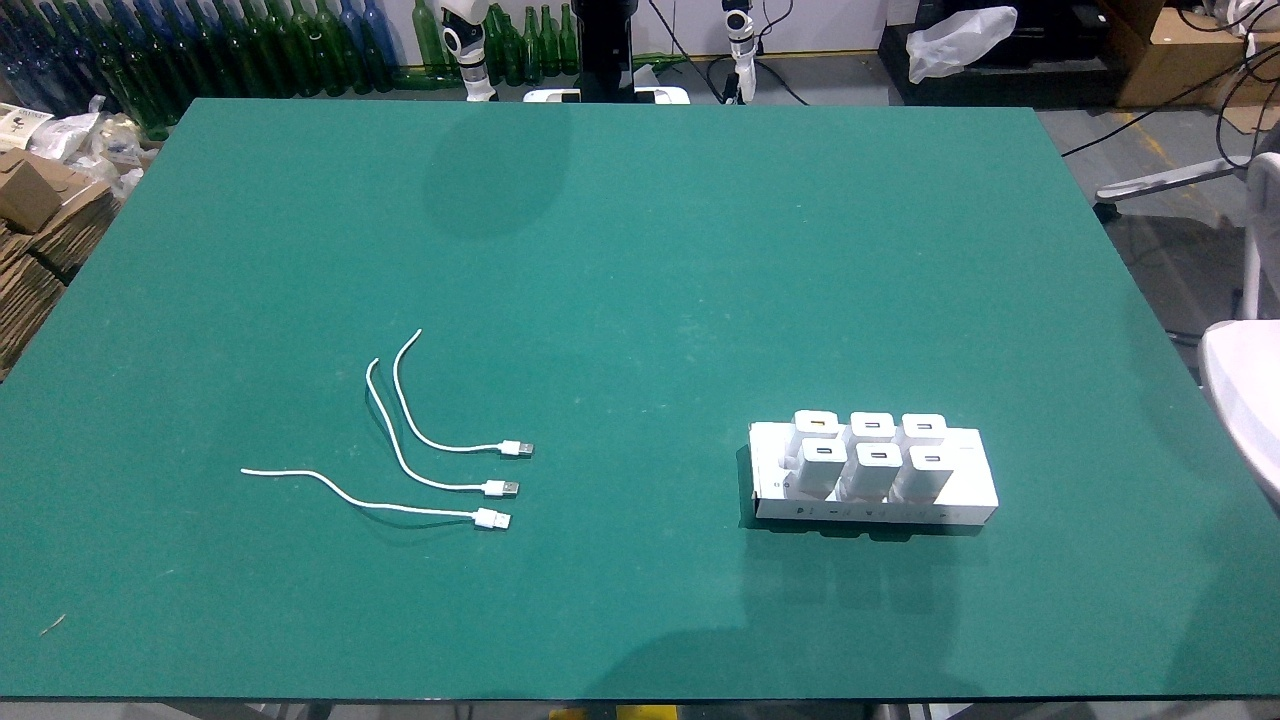usb_a_plug: (453, 505, 517, 531), (480, 437, 540, 458), (466, 480, 523, 496)
